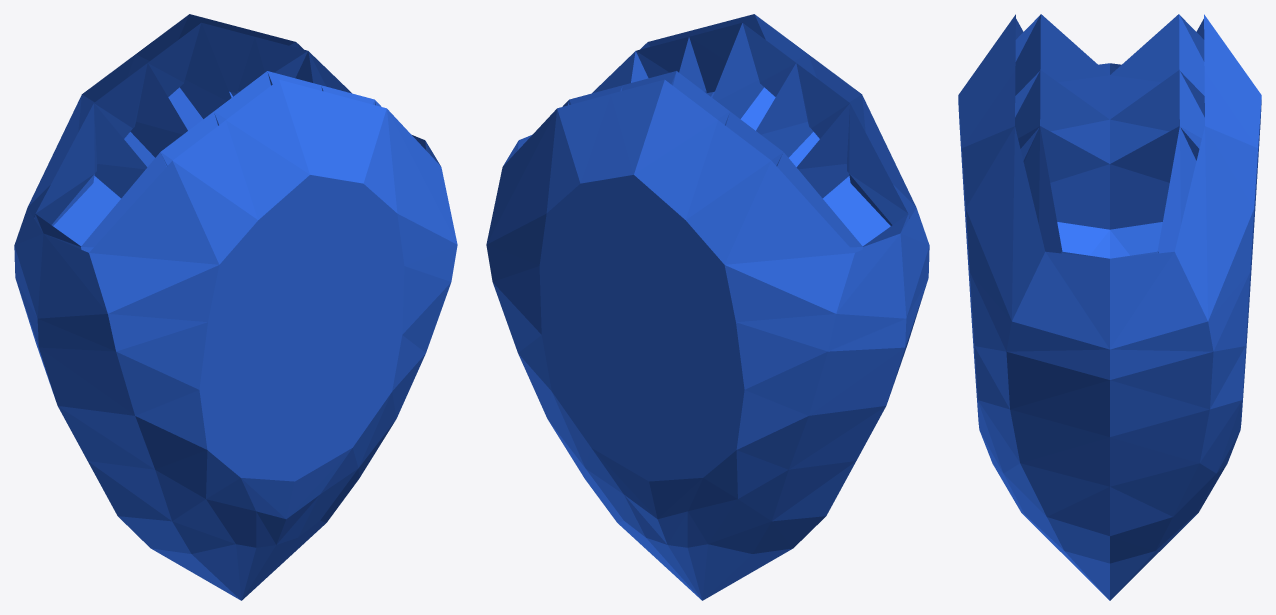
The model's file is chaos gemerald1point5.FBX.
3 views of the same model, side by side, from view 1: azimuth 30°, elevation 25°; view 2: azimuth 150°, elevation 25°; view 3: azimuth 270°, elevation 25° (orthographic). The views are drawn at different scales.
Visible parts, largest first — view 1: Object122; view 2: Object122; view 3: Object122.
Boxes of the visible parts, <box> form: Object122: <box>14,14,457,600</box>; Object122: <box>486,14,929,600</box>; Object122: <box>958,14,1261,600</box>.
Size of the model in its own units: 4.71 by 6.36 by 3.
